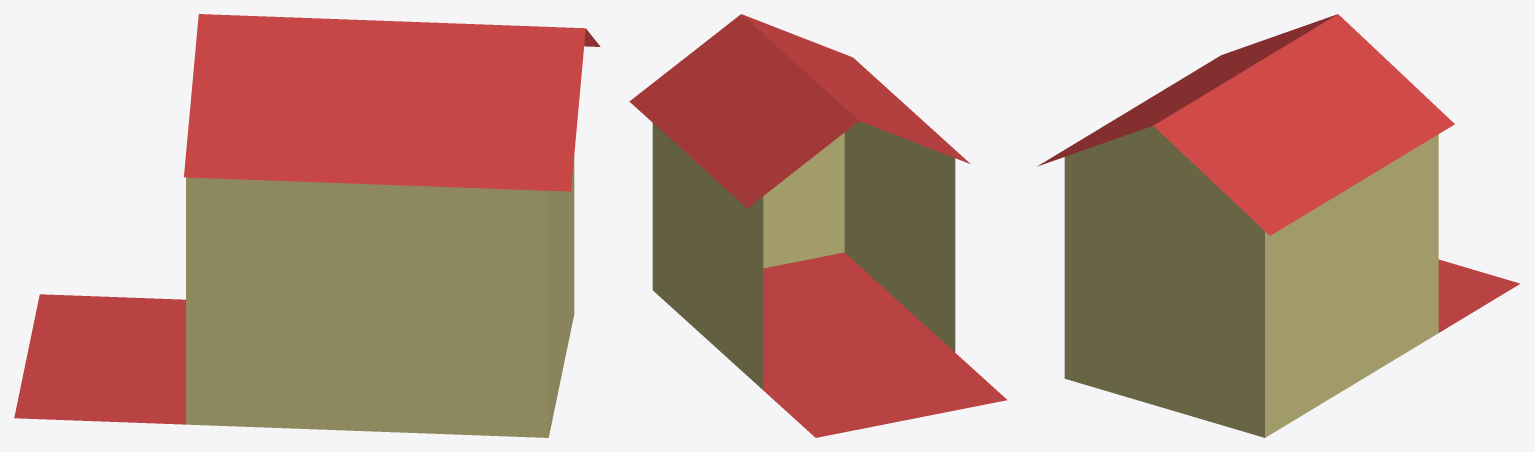
3 views of the same model, side by side, from view 1: azimuth 30°, elevation 25°; view 2: azimuth 150°, elevation 25°; view 3: azimuth 270°, elevation 25° (orthographic). The views are drawn at different scales.
Size of the model in its own units: 13.13 by 11.92 by 7.86.
